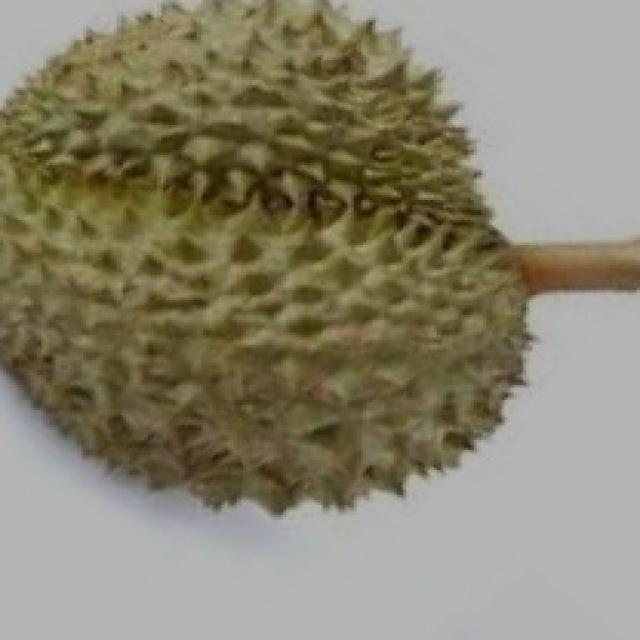fruit: (194, 157, 591, 565), (0, 160, 369, 558)
